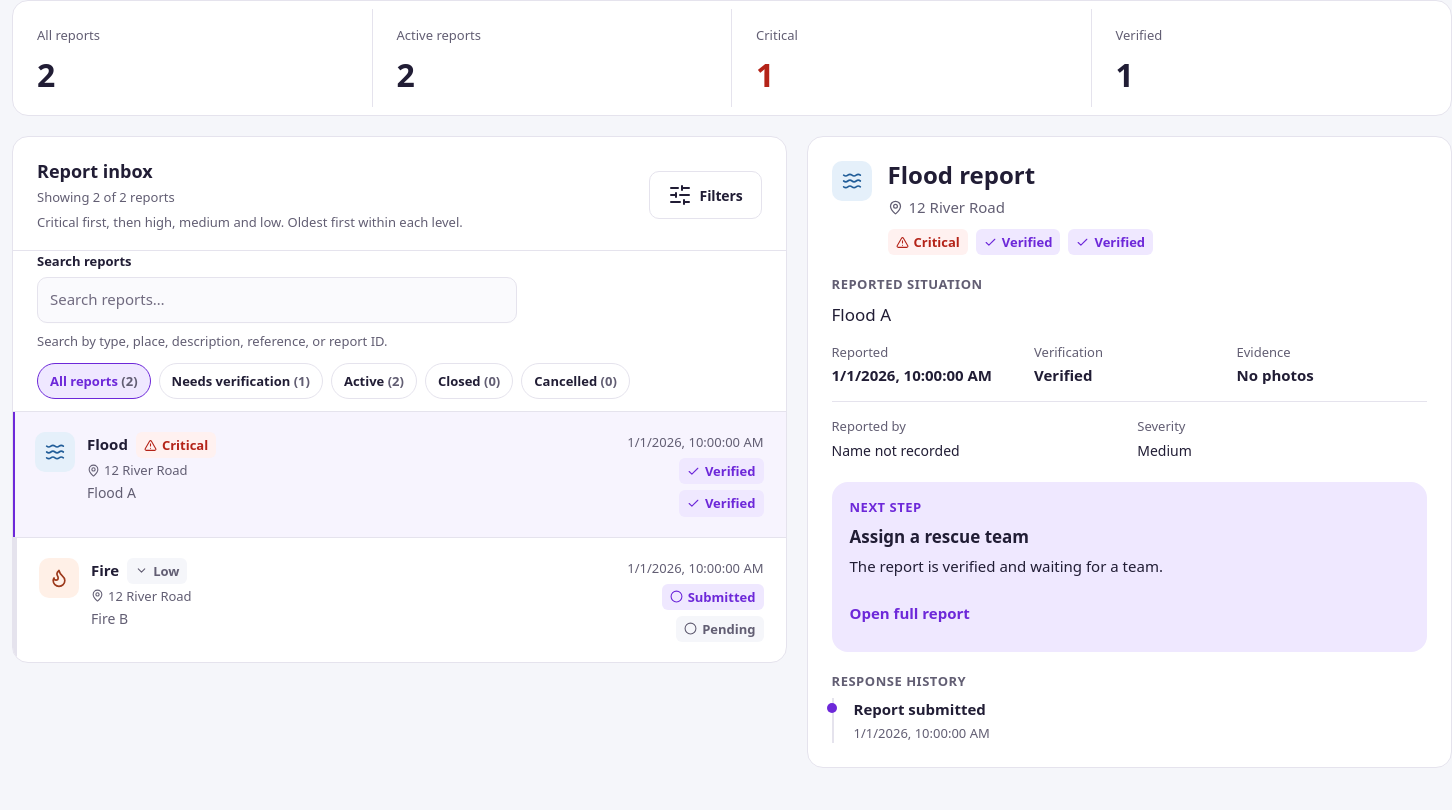
Test: ReportQueue › selecting a row updates the preview without navigating
Click the button "Fire B". click: (59, 578)
box: [13,538,786,662]
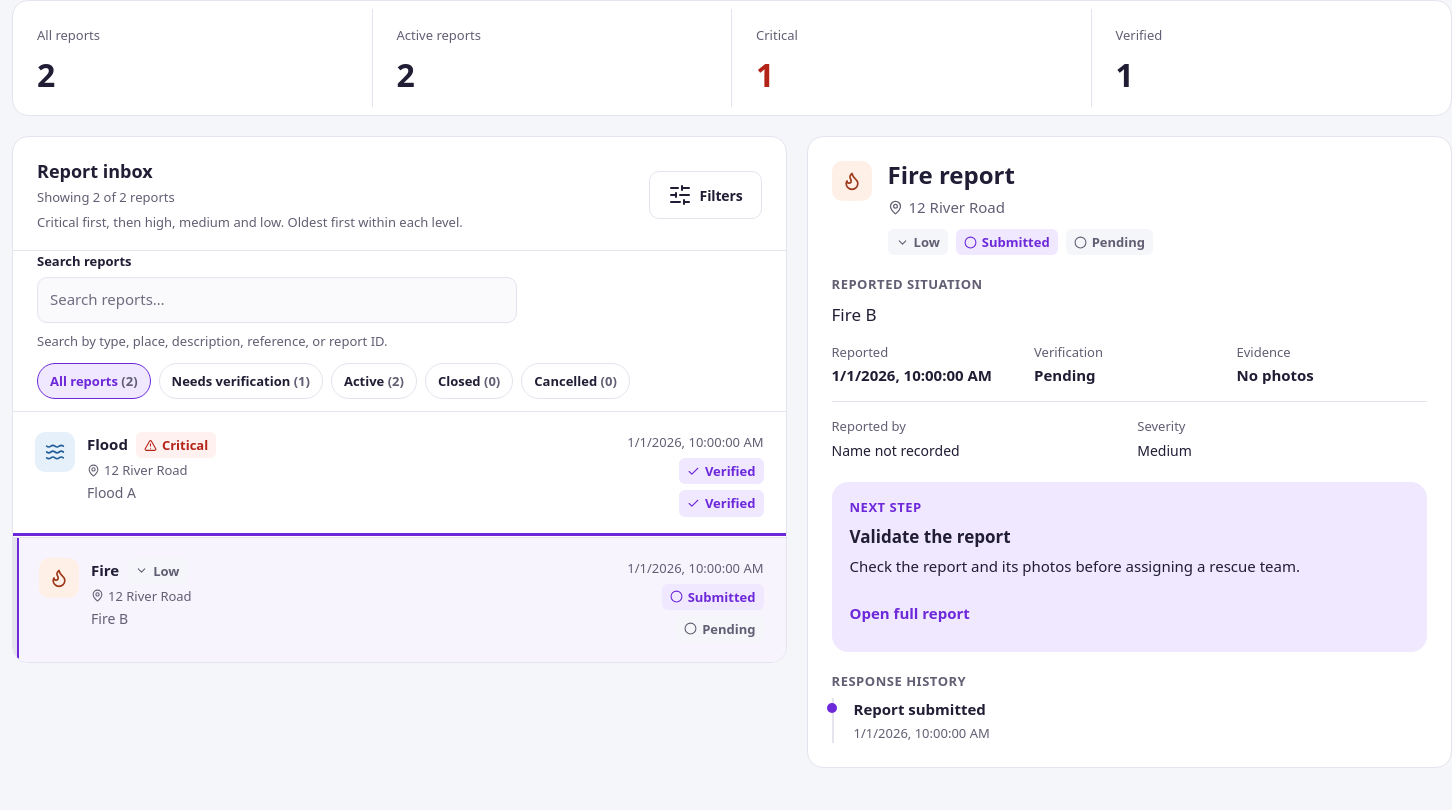
Now the heading "Fire report" is shown, box [888,158,1015,191]
